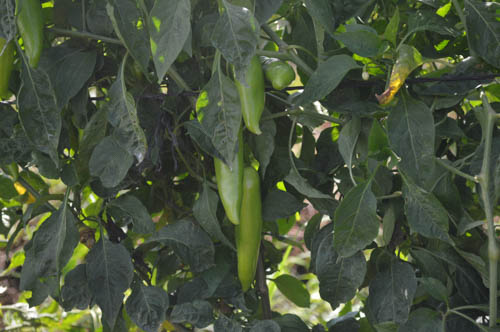ChiliPepper: (233, 168, 262, 293), (214, 132, 242, 224), (234, 58, 265, 137), (15, 5, 42, 68), (265, 57, 293, 90)
